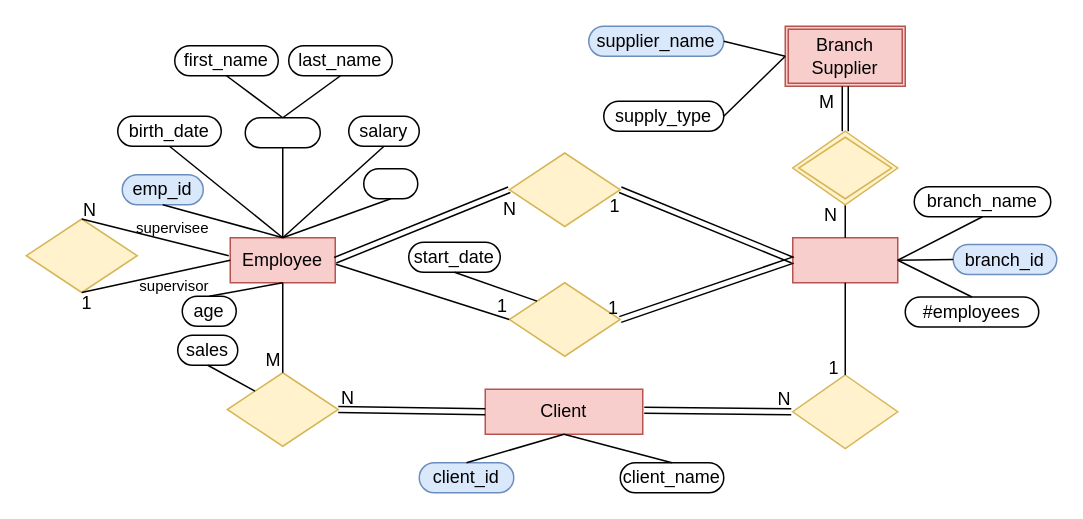
Image size: 1083x519. Some labels were removed from this diagram. The shapes that lost their labels are listed below. From the top down, each one's centre as x and y in pixels, then its label:
[282,132]: name
[390,183]: sex
[844,167]: Supplies
[564,189]: Works For
[81,255]: Supervision
[844,259]: Branch
[564,318]: Manages
[282,408]: Works With
[844,411]: Handles
